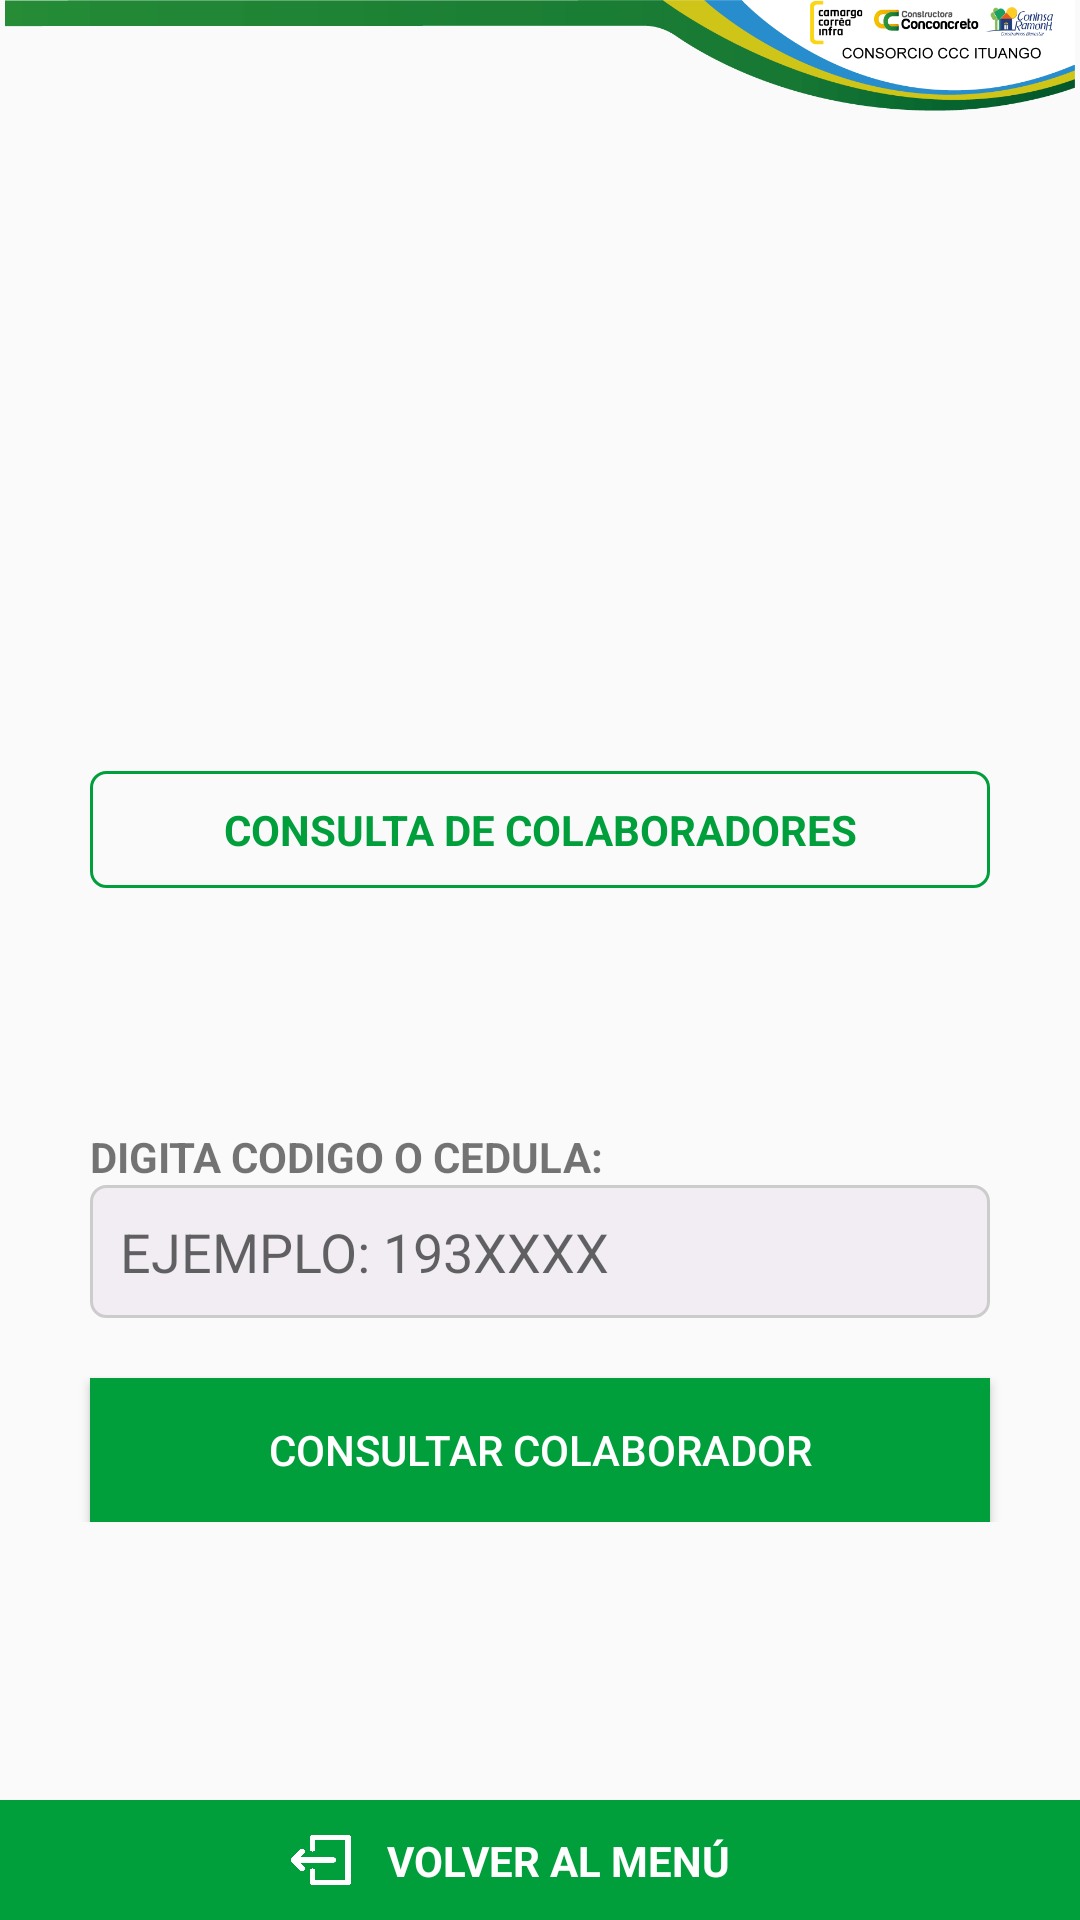

Icon click points for this 1080*1920 phone screenshot, format [x,y]:
salir: [321,1860]
